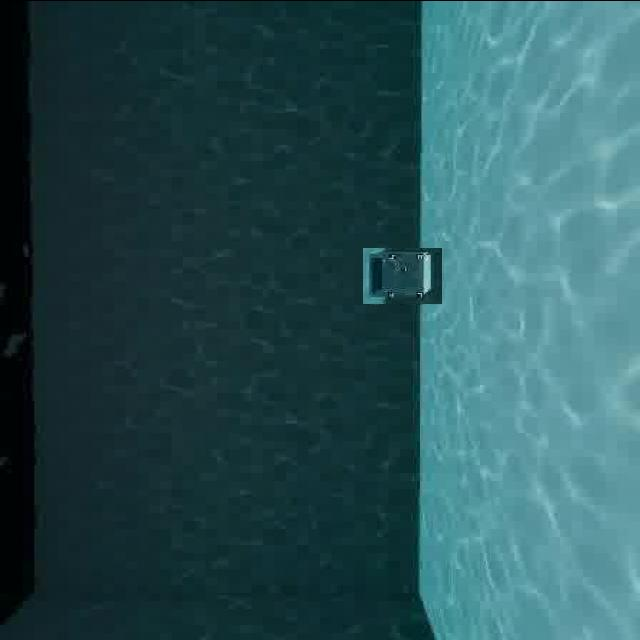Docking Station: (362, 247, 442, 304)
